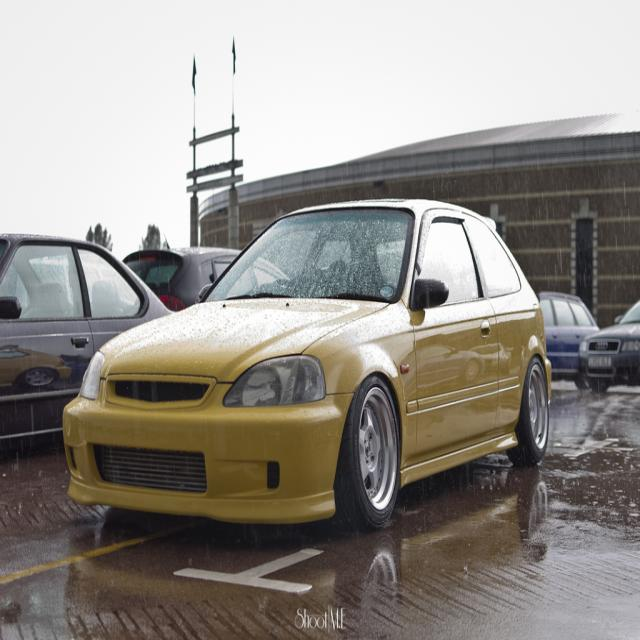car: (59, 191, 552, 541)
